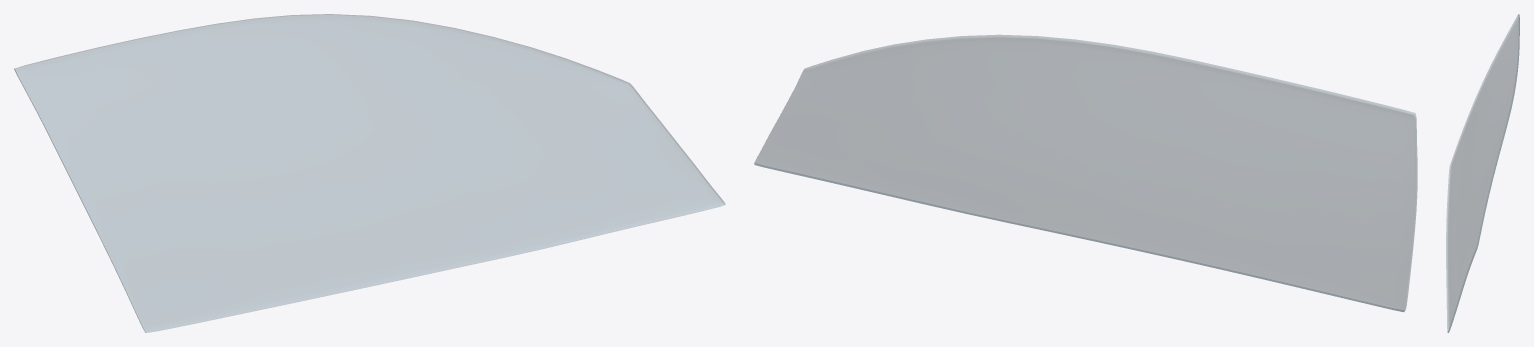
3 renders of one model, left to right at view 1: azimuth 30°, elevation 25°; view 2: azimuth 150°, elevation 25°; view 3: azimuth 270°, elevation 25°, orthographic. The views are drawn at different scales.
Parts seen in each view (by area): view 1: SM_DodgeCharger_Door_FR_Glass_Ext2; view 2: SM_DodgeCharger_Door_FR_Glass_Ext2; view 3: SM_DodgeCharger_Door_FR_Glass_Ext2.
Part boxes in pixels (bbox=[...]): SM_DodgeCharger_Door_FR_Glass_Ext2: bbox=[14, 14, 725, 332]; SM_DodgeCharger_Door_FR_Glass_Ext2: bbox=[754, 35, 1417, 311]; SM_DodgeCharger_Door_FR_Glass_Ext2: bbox=[1446, 14, 1519, 332].
Bounding box in the file's own units: 0.938 × 0.346 × 0.164.
